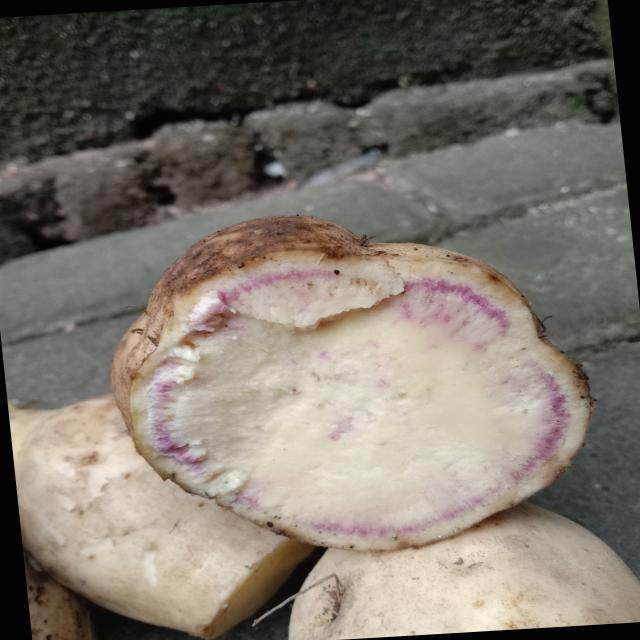Healthy Sweet Potato: (132, 262, 592, 550)
